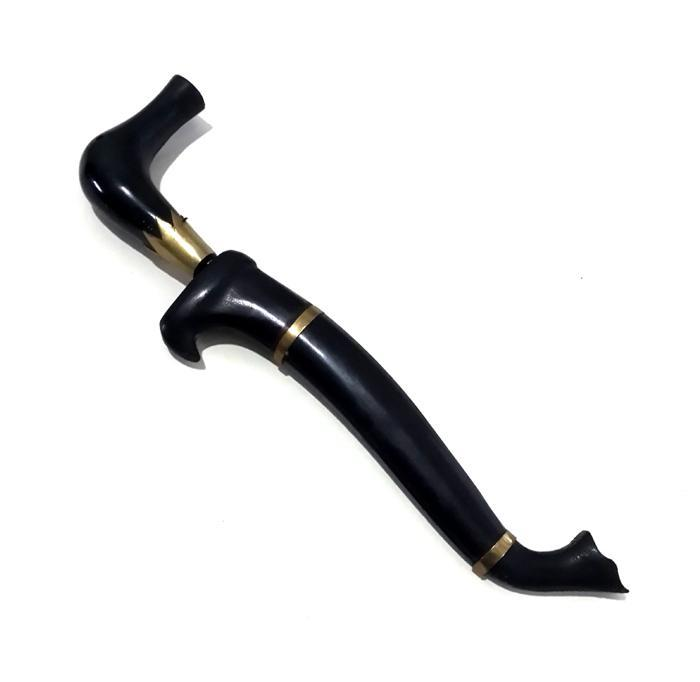facao: (80, 76, 627, 592)
